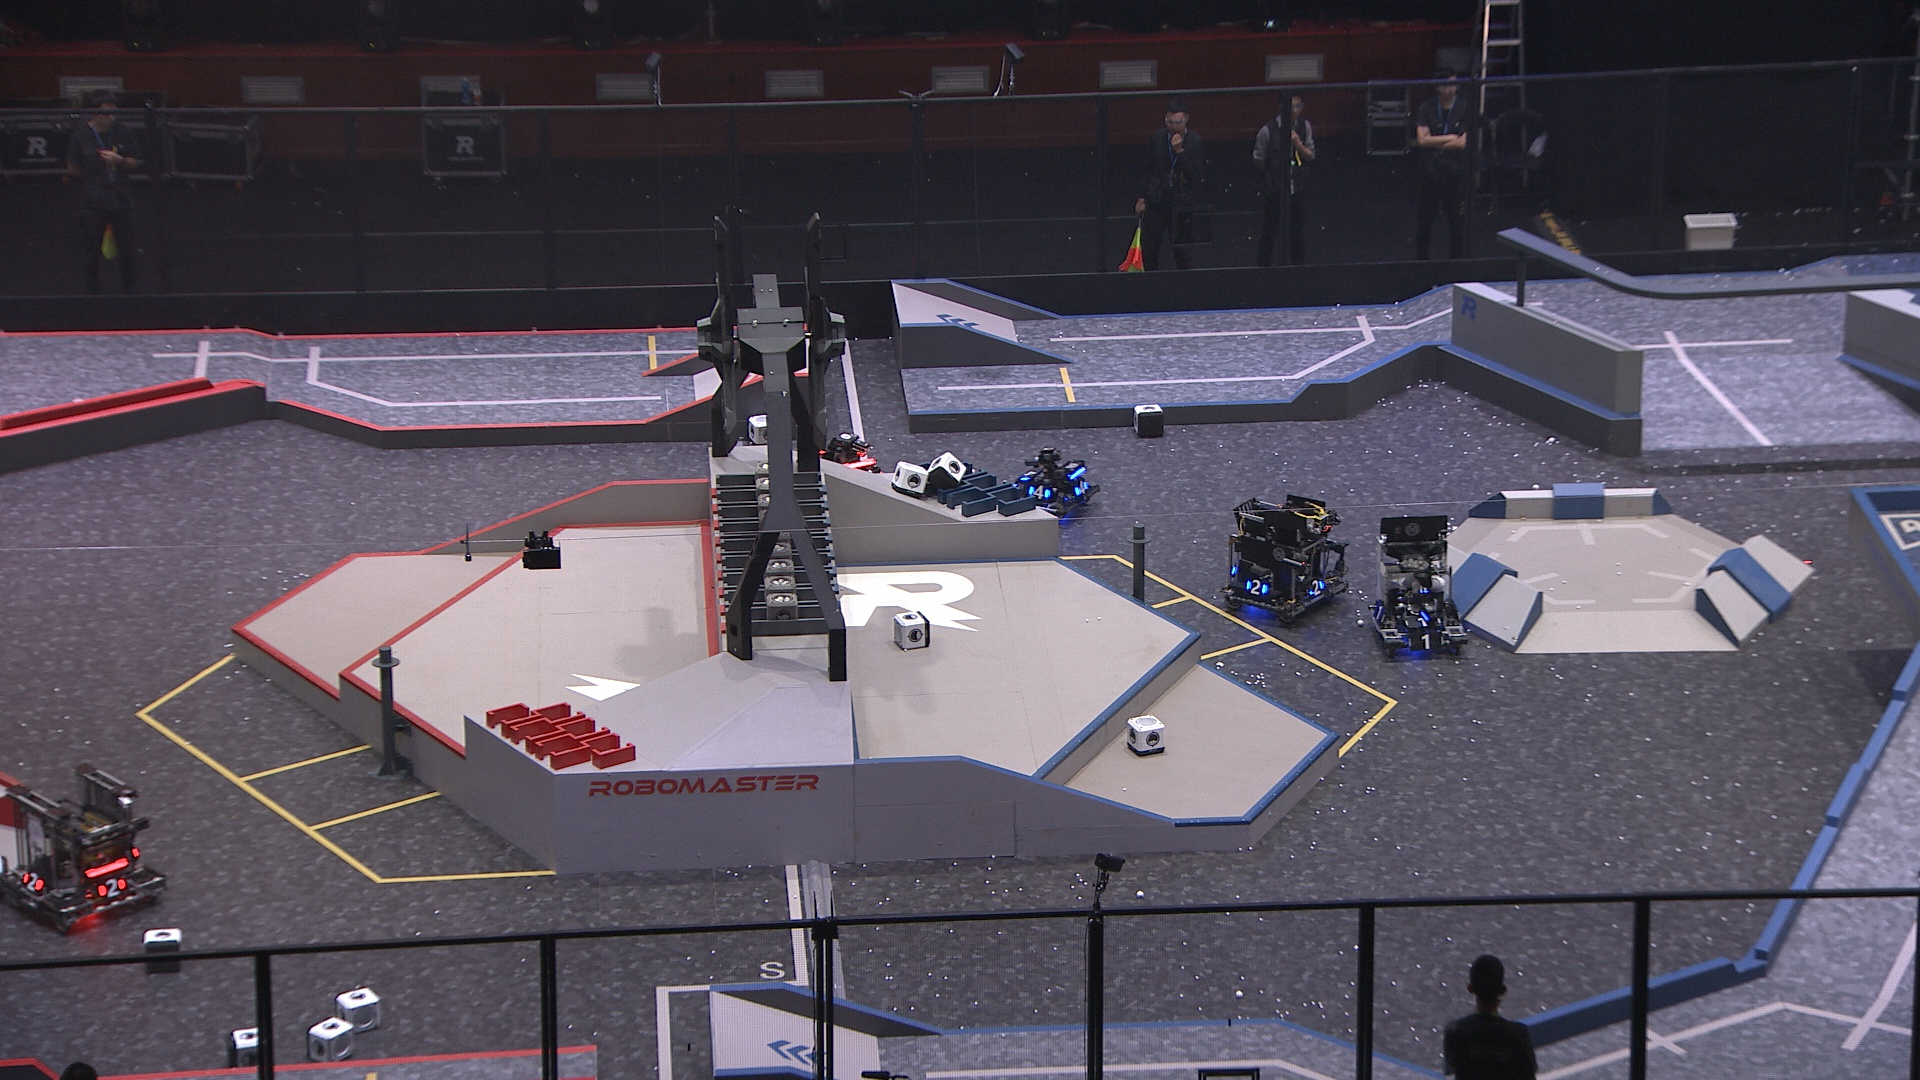armor: (94, 877, 128, 899), (1408, 632, 1444, 651), (1404, 613, 1443, 628), (20, 870, 44, 891), (1244, 578, 1269, 597), (1367, 600, 1386, 624), (1025, 485, 1048, 500), (1073, 479, 1091, 498), (1309, 578, 1324, 597), (1021, 469, 1036, 487)
car: (1, 764, 167, 938), (1224, 491, 1348, 626), (1364, 514, 1466, 654), (795, 431, 895, 522), (1001, 451, 1101, 529)
